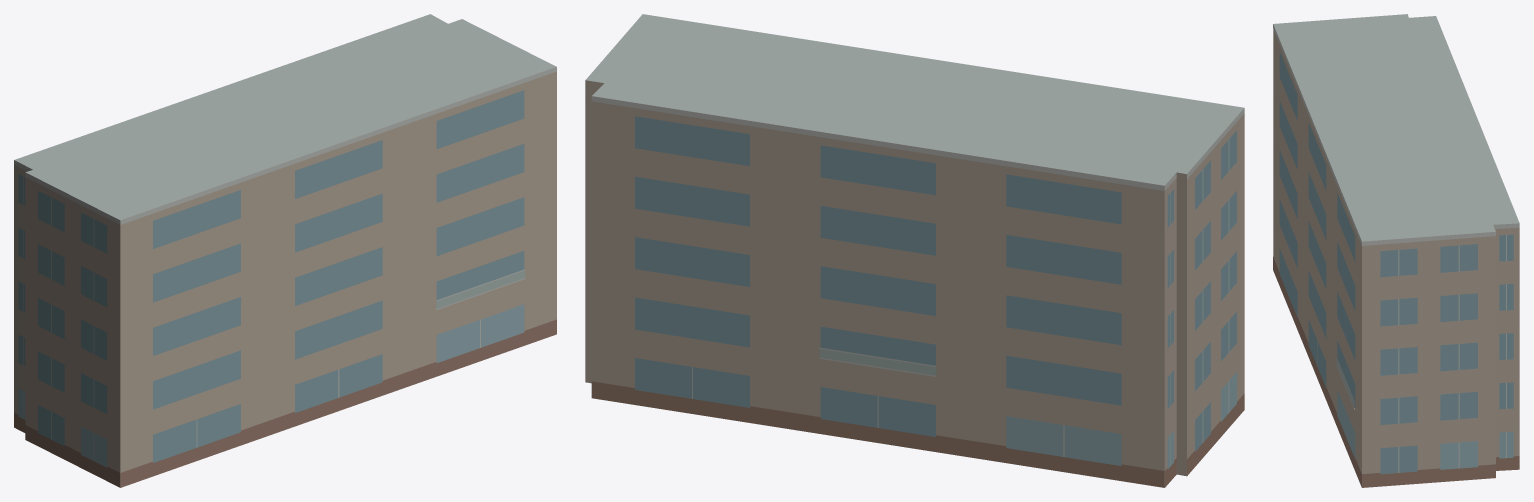
File: survey-upis-32737548.glb
3 views of the same model, side by side, from view 1: azimuth 30°, elevation 25°; view 2: azimuth 150°, elevation 25°; view 3: azimuth 270°, elevation 25° (orthographic). The views are drawn at different scales.
Parts seen in each view (by area): view 1: survey-upis-32737548.tmp; view 2: survey-upis-32737548.tmp; view 3: survey-upis-32737548.tmp.
Boxes of the visible parts, x1,y1,x2,y2 form: survey-upis-32737548.tmp: (14, 14, 556, 487); survey-upis-32737548.tmp: (585, 14, 1244, 487); survey-upis-32737548.tmp: (1273, 14, 1519, 487).
Size of the model in its own units: 27.76 by 14 by 12.72.
